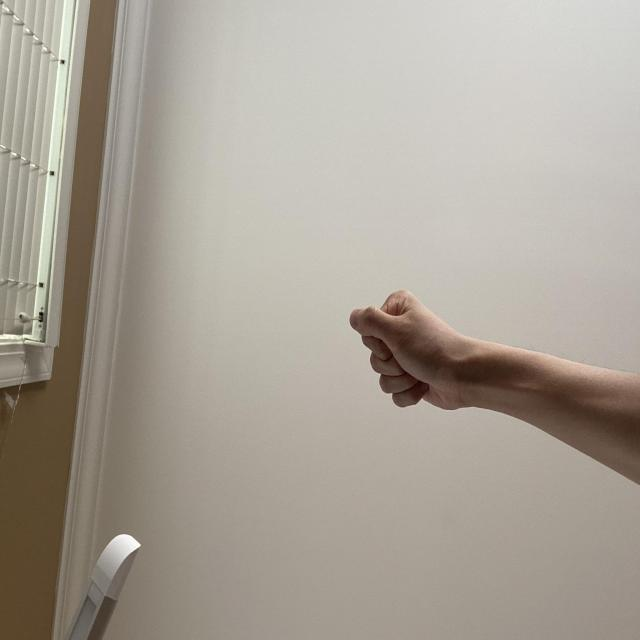A: (170, 460, 266, 637)
